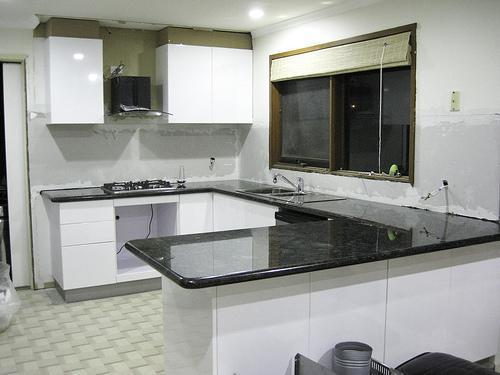Lavaplatos: (236, 175, 318, 204)
